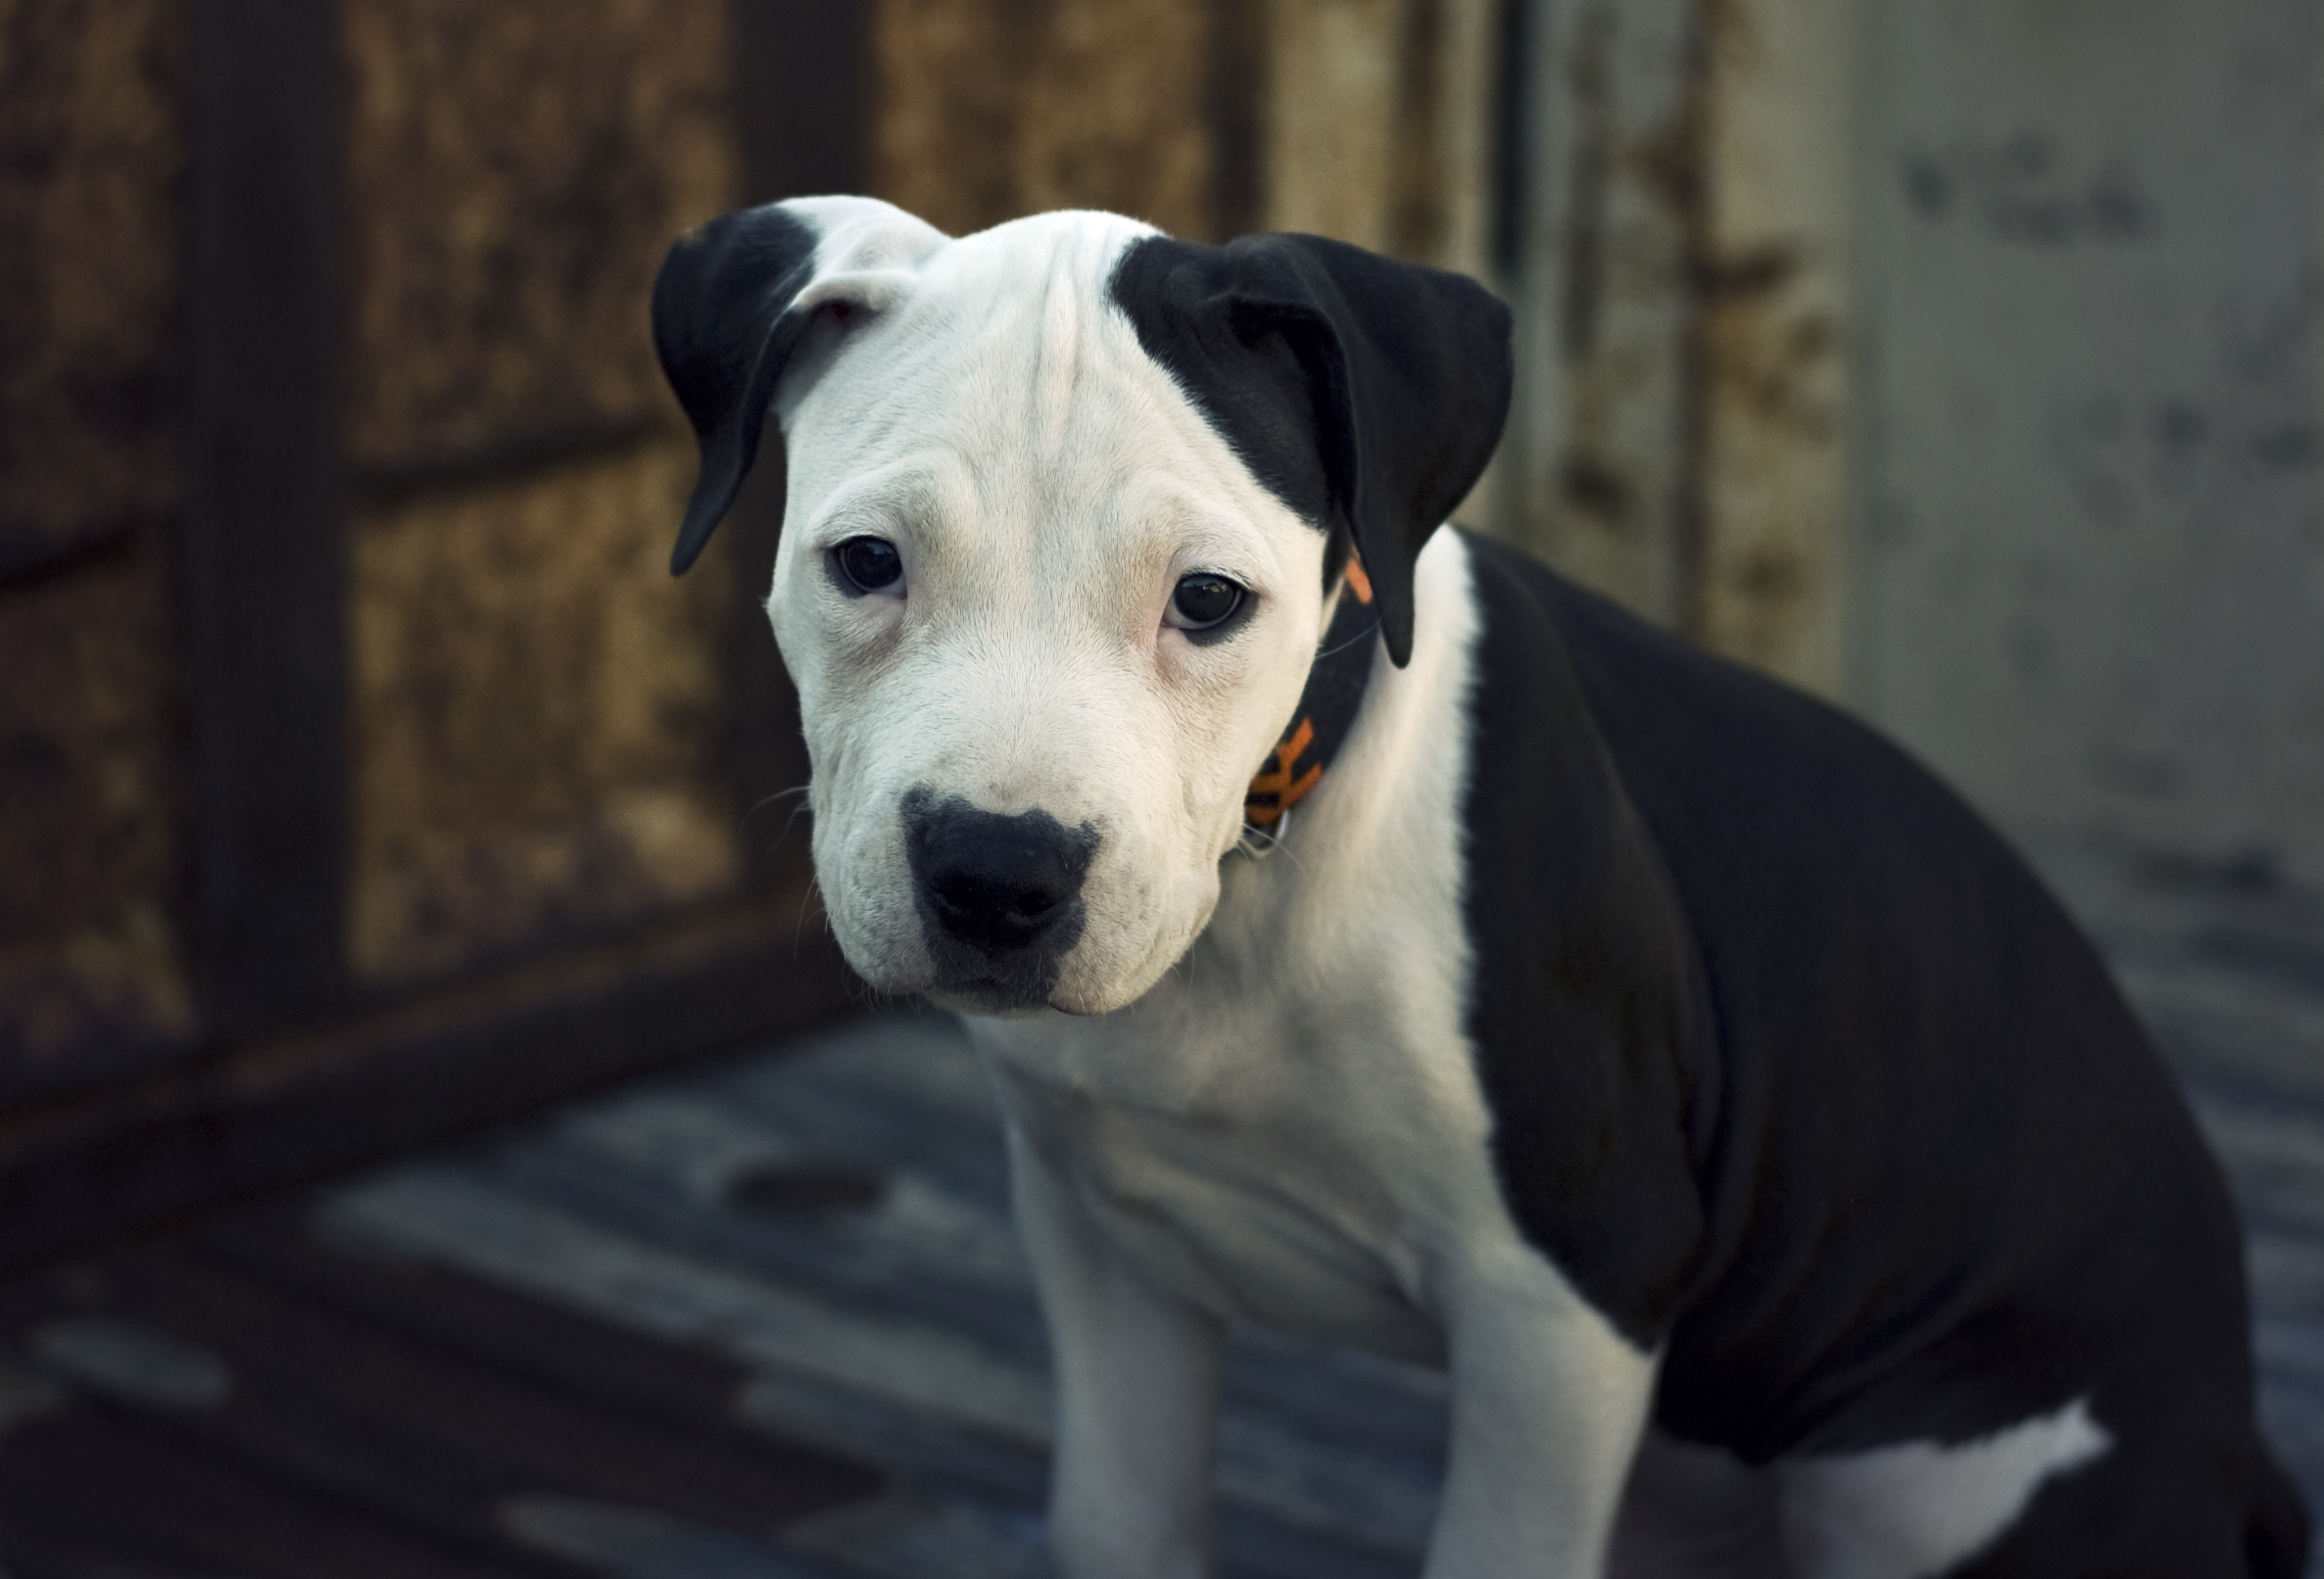staffordshire_bullterrier: (650, 192, 2317, 1579)
